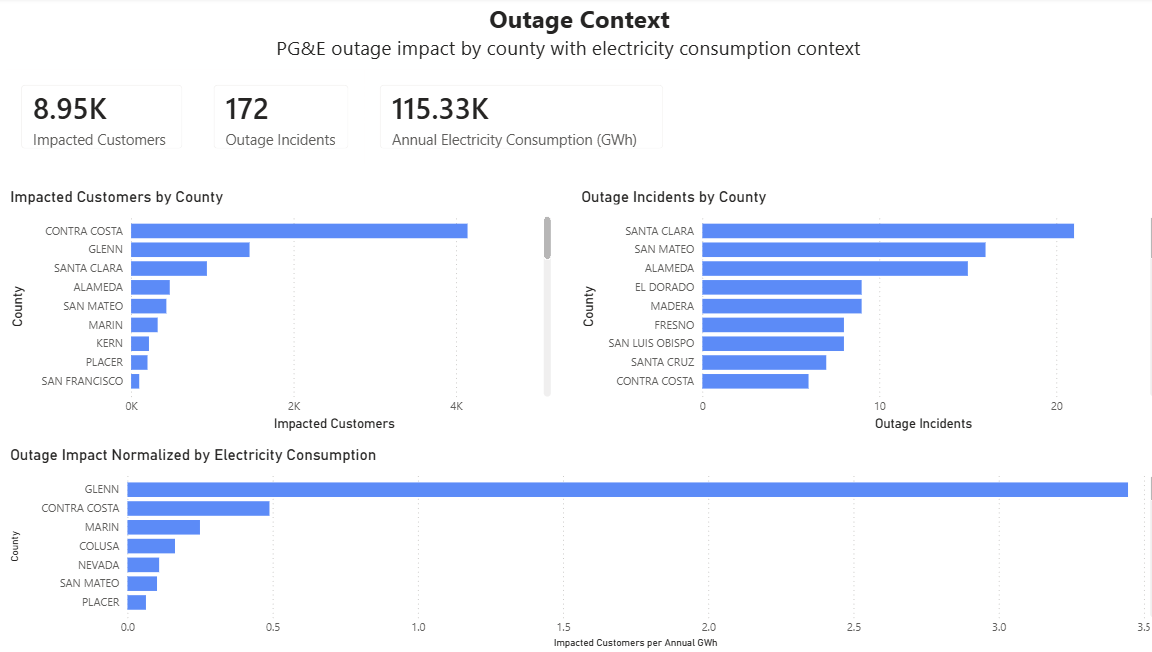

This screenshot's page, from the dashboard's own definition file:
{"tool":"powerbi","page":{"name":"Outage Context","canvas":[1280,720],"ordinal":4},"visuals":[{"type":"textbox","box":[9.6,0,1270.7,79.6],"z":0},{"type":"cardVisual","fields":{"Data":["Sum(Outage Context.total_impacted_customers)"]},"box":[9.6,79.6,211.3,104.3],"z":1},{"type":"cardVisual","fields":{"Data":["Sum(Outage Context.outage_incidents)"]},"box":[220.9,79.6,182.5,104.3],"z":2},{"type":"cardVisual","fields":{"Data":["Sum(Outage Context.annual_total_gwh)"]},"box":[403.4,79.6,345.8,104.3],"z":3},{"type":"clusteredBarChart","fields":{"Category":["Outage Context.county"],"Y":["Sum(Outage Context.total_impacted_customers)"]},"box":[9.6,208.6,603.8,273.1],"z":4},{"type":"clusteredBarChart","title":"Outage Incidents by County","fields":{"Category":["Outage Context.county"],"Y":["Sum(Outage Context.outage_incidents)"]},"box":[636.7,208.6,643.6,273.1],"z":5},{"type":"clusteredBarChart","title":"Outage Impact Normalized by Electricity Consumption","fields":{"Category":["Outage Context.county"],"Y":["Sum(Outage Context.impacted_customers_per_annual_gwh)"]},"box":[9.6,492.6,1270.7,227.8],"z":6}]}

Visuals, with their boxes in screenshot pixels (x1, y1, x2, y2), scaled from the page's 1280x720 canvas onto the 1152x652 screenshot:
textbox: select_region(9, 0, 1151, 72)
cardVisual - Sum(Outage Context.total_impacted_customers): select_region(9, 72, 199, 167)
cardVisual - Sum(Outage Context.outage_incidents): select_region(199, 72, 363, 167)
cardVisual - Sum(Outage Context.annual_total_gwh): select_region(363, 72, 674, 167)
clusteredBarChart - Outage Context.county x Sum(Outage Context.total_impacted_customers): select_region(9, 189, 552, 436)
"Outage Incidents by County" clusteredBarChart: select_region(573, 189, 1151, 436)
"Outage Impact Normalized by Electricity Consumption" clusteredBarChart: select_region(9, 446, 1151, 651)
